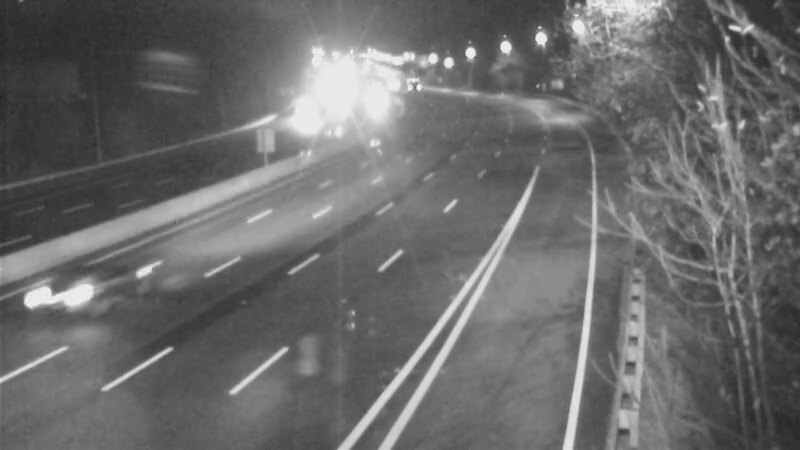vehicle: (38, 256, 118, 336), (387, 62, 437, 112), (282, 89, 332, 139), (348, 75, 398, 125)
